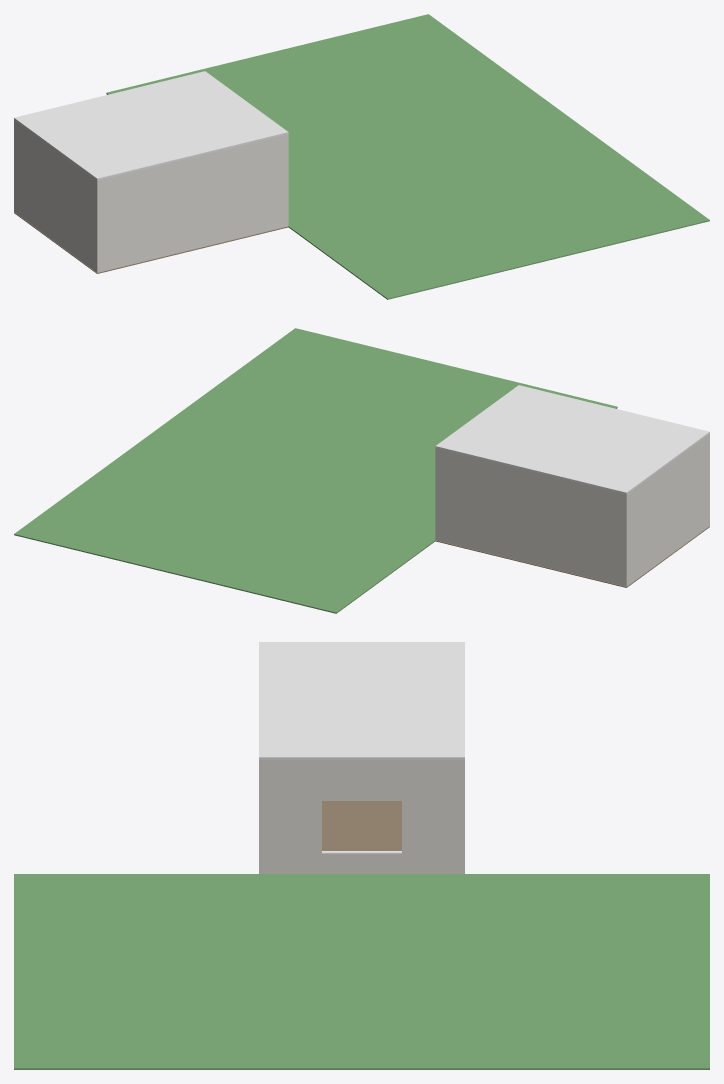
The model's file is room_shell.glb.
The picture shows the model from 3 angles, top to bottom: view 1: azimuth 30°, elevation 25°; view 2: azimuth 150°, elevation 25°; view 3: azimuth 270°, elevation 25°; orthographic projection. The views are drawn at different scales.
Visible parts, largest first — view 1: Grass, Wall_PosZ, Ceiling, Wall_NegX, UnderFloor; view 2: Grass, Wall_NegZ, Ceiling, Wall_NegX, UnderFloor; view 3: Grass, Ceiling, WallPosX_lintel, WallPosX_sill, UnderFloor, WallPosX_right, WallPosX_left.
Part boxes in pixels (x1,y1,x2,y2): Grass: [106, 14, 709, 299]; Wall_PosZ: [96, 134, 288, 272]; Ceiling: [14, 71, 288, 180]; Wall_NegX: [14, 120, 99, 272]; UnderFloor: [14, 212, 288, 273]; Grass: [14, 328, 617, 613]; Wall_NegZ: [435, 448, 627, 586]; Ceiling: [435, 385, 709, 494]; Wall_NegX: [624, 434, 709, 586]; UnderFloor: [435, 526, 709, 587]; Grass: [14, 874, 709, 1069]; Ceiling: [259, 642, 464, 759]; WallPosX_lintel: [259, 760, 464, 800]; WallPosX_sill: [259, 852, 464, 873]; UnderFloor: [322, 801, 401, 850]; WallPosX_right: [259, 801, 321, 853]; WallPosX_left: [402, 801, 464, 853].
Size of the model in its own units: 54.8 by 9.72 by 52.
